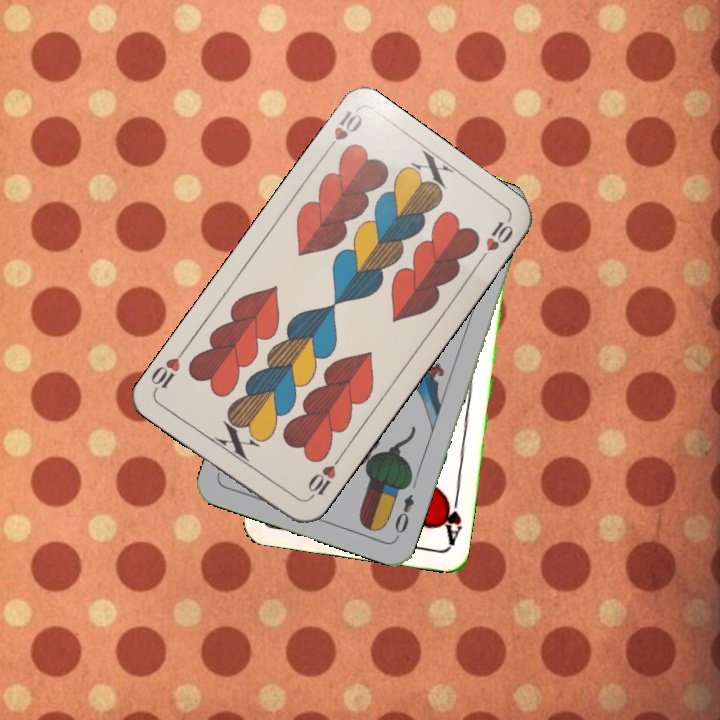EO: (390, 490, 417, 541)
H10: (320, 105, 365, 158), (302, 452, 343, 504)
HA: (437, 488, 464, 548)
